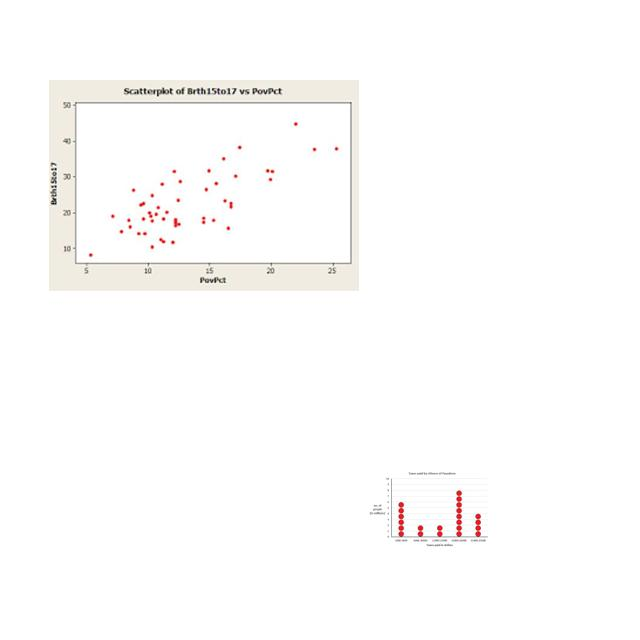Graph: (49, 80, 359, 291), (366, 469, 490, 550)
